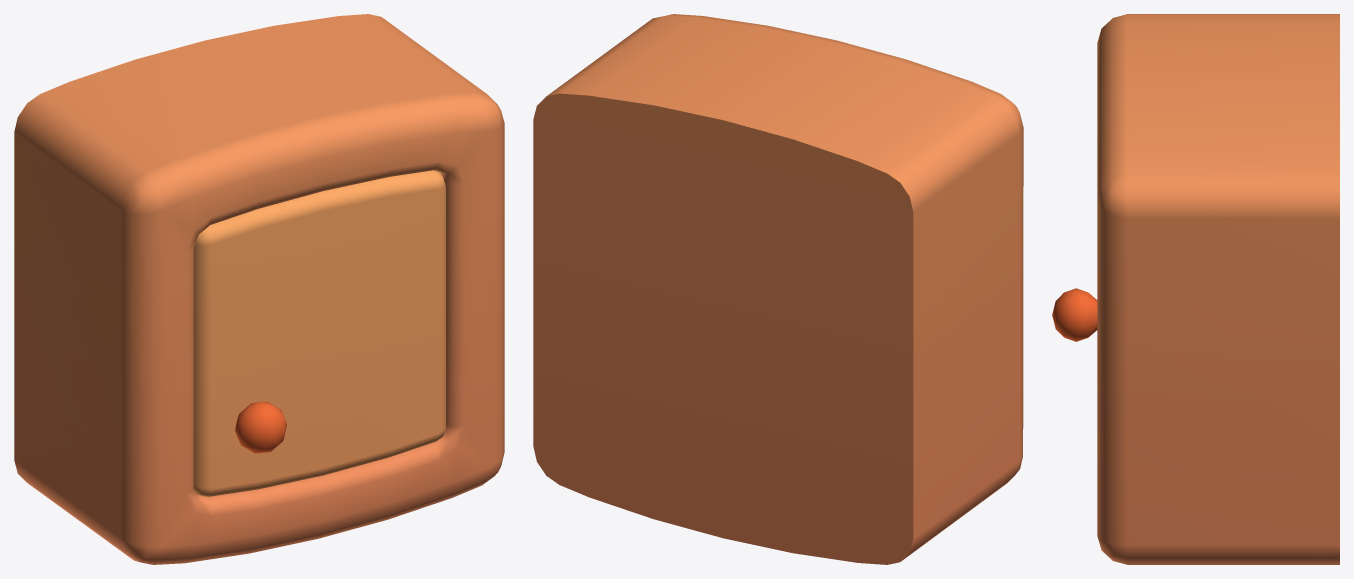
Rendered from Kitchen_D_08.glb.
3 renders of one model, left to right at view 1: azimuth 30°, elevation 25°; view 2: azimuth 150°, elevation 25°; view 3: azimuth 270°, elevation 25°, orthographic.
Parts seen in each view (by area): view 1: Kitchen_D_08, Kitchen_D_08_Door; view 2: Kitchen_D_08; view 3: Kitchen_D_08, Kitchen_D_08_Door.
Boxes of the visible parts, x1,y1,x2,y2 form: Kitchen_D_08: (14,14,504,564); Kitchen_D_08_Door: (193,170,445,496); Kitchen_D_08: (533,14,1023,564); Kitchen_D_08: (1097,14,1339,564); Kitchen_D_08_Door: (1052,288,1097,341).
Bounding box in the file's own units: 0.5776 × 0.6075 × 0.3799.
Materials: 1 (1 with a texture image).
